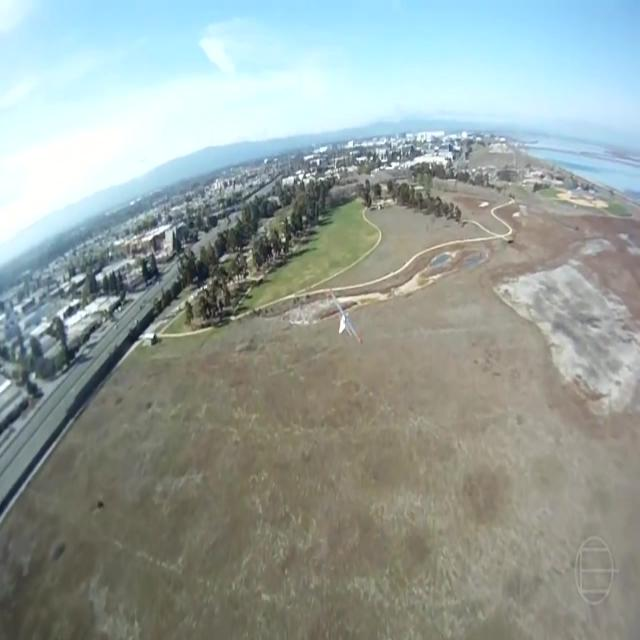iha: (329, 290, 363, 345)
